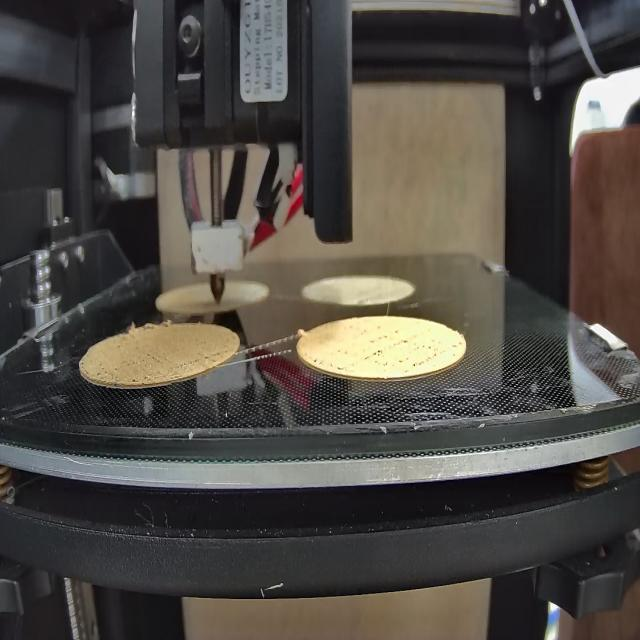under_extrusion: (362, 322, 444, 368), (95, 346, 166, 384), (310, 351, 346, 377), (184, 350, 224, 372)
